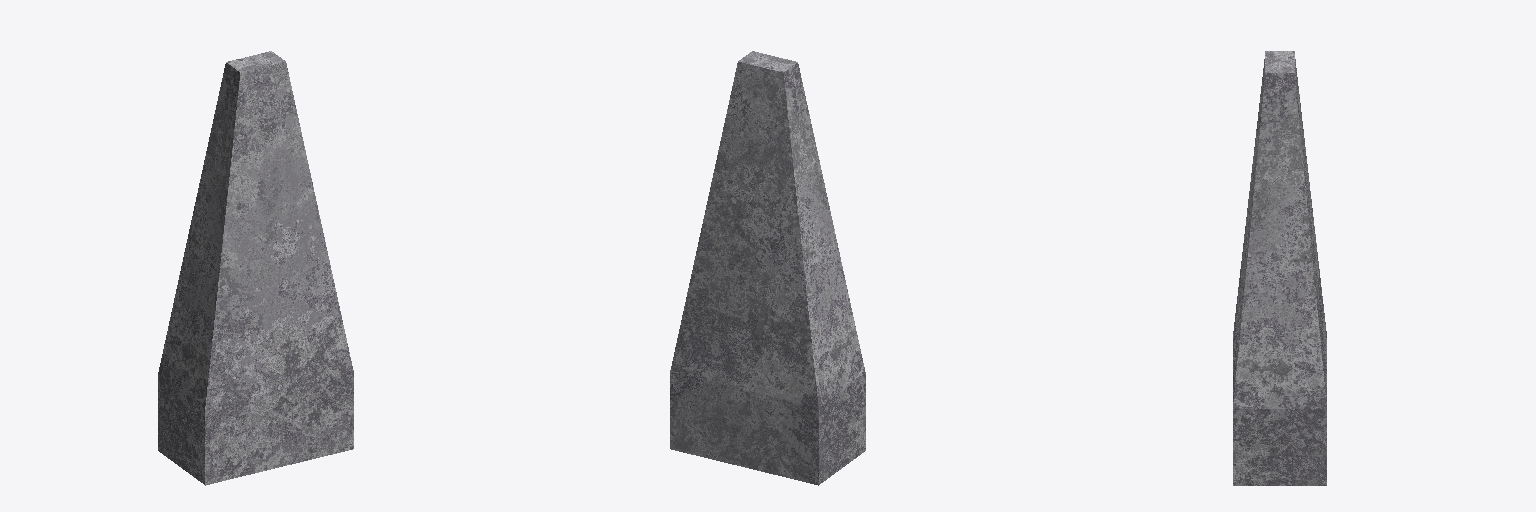
3 renders of one model, left to right at view 1: azimuth 30°, elevation 25°; view 2: azimuth 150°, elevation 25°; view 3: azimuth 270°, elevation 25°, orthographic.
Parts seen in each view (by area): view 1: Cube.001; view 2: Cube.001; view 3: Cube.001.
Boxes of the visible parts, x1=… form: Cube.001: x1=158, y1=51, x2=353, y2=485; Cube.001: x1=670, y1=51, x2=865, y2=485; Cube.001: x1=1233, y1=51, x2=1326, y2=485.
Bounding box in the file's own units: 2 × 5 × 1.1.
Materials: 1 (1 with a texture image).